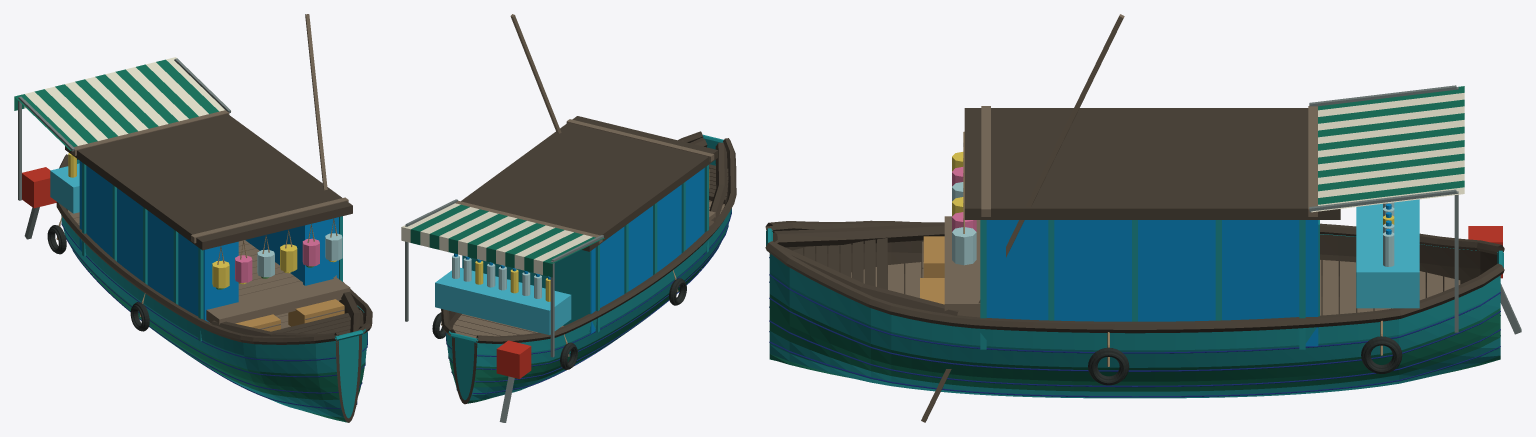
File: floating-shop-boat.glb
3 renders of one model, left to right at view 1: azimuth 30°, elevation 25°; view 2: azimuth 150°, elevation 25°; view 3: azimuth 270°, elevation 25°, orthographic. The views are drawn at different scales.
Parts seen in each view (by area): view 1: shop_cabin_roof__wood_dark, shop_cabin_walls__blue, hull_planks__turquoise, striped_canopy__green, striped_canopy__white, hull_planks__green, gunwale__wood_dark.003, service_hatch_panels__blue, service_counter__wood, shop_cabin_ribs__turquoise, plank_seams__navy.001, deck_boards__wood.003 (+16 smaller); view 2: shop_cabin_roof__wood_dark, shop_cabin_walls__blue, hull_planks__turquoise, stern_display__blue_light, gunwale__wood_dark.003, striped_canopy__white, striped_canopy__green, hull_planks__green, rear_cabin_panel__turquoise, shop_cabin_ribs__turquoise, plank_seams__navy.001, roof_edge__wood (+15 smaller); view 3: shop_cabin_roof__wood_dark, shop_cabin_walls__blue, hull_planks__turquoise, hull_planks__green, gunwale__wood_dark.003, striped_canopy__green, striped_canopy__white, stern_display__blue_light, plank_seams__navy.001, hull_inner__wood_dark.003, bow_rubbing_strake__wood_dark, deck_boards__wood.003 (+10 smaller).
Boxes of the visible parts, x1,y1,x2,y2 form: shop_cabin_roof__wood_dark: (65, 113, 352, 250); shop_cabin_walls__blue: (79, 161, 302, 316); hull_planks__turquoise: (61, 215, 367, 417); striped_canopy__green: (14, 59, 218, 150); striped_canopy__white: (25, 57, 231, 145); hull_planks__green: (66, 237, 365, 422); gunwale__wood_dark.003: (56, 154, 372, 344); service_hatch_panels__blue: (203, 217, 338, 322); service_counter__wood: (206, 278, 350, 324); shop_cabin_ribs__turquoise: (82, 162, 342, 341); plank_seams__navy.001: (61, 222, 367, 408); deck_boards__wood.003: (67, 210, 302, 328); shop_cabin_roof__wood_dark: (461, 116, 717, 251); shop_cabin_walls__blue: (462, 168, 704, 333); hull_planks__turquoise: (446, 208, 731, 400); stern_display__blue_light: (435, 267, 571, 334); gunwale__wood_dark.003: (441, 131, 736, 343); striped_canopy__white: (402, 203, 592, 261); striped_canopy__green: (411, 204, 604, 263); hull_planks__green: (448, 235, 724, 403); rear_cabin_panel__turquoise: (462, 250, 590, 332); shop_cabin_ribs__turquoise: (595, 165, 708, 332); plank_seams__navy.001: (445, 209, 731, 393); roof_edge__wood: (455, 119, 714, 243); shop_cabin_roof__wood_dark: (964, 108, 1340, 219); shop_cabin_walls__blue: (986, 220, 1318, 346); hull_planks__turquoise: (769, 253, 1500, 398); hull_planks__green: (769, 294, 1500, 391); gunwale__wood_dark.003: (765, 220, 1504, 333); striped_canopy__green: (1318, 86, 1464, 204); striped_canopy__white: (1311, 93, 1464, 212); stern_display__blue_light: (1356, 199, 1419, 308); plank_seams__navy.001: (769, 257, 1500, 397); hull_inner__wood_dark.003: (773, 232, 1497, 315); bow_rubbing_strake__wood_dark: (769, 222, 958, 315); deck_boards__wood.003: (851, 260, 1460, 315).
Size of the model in its own units: 3.19 by 5.38 by 8.58.
